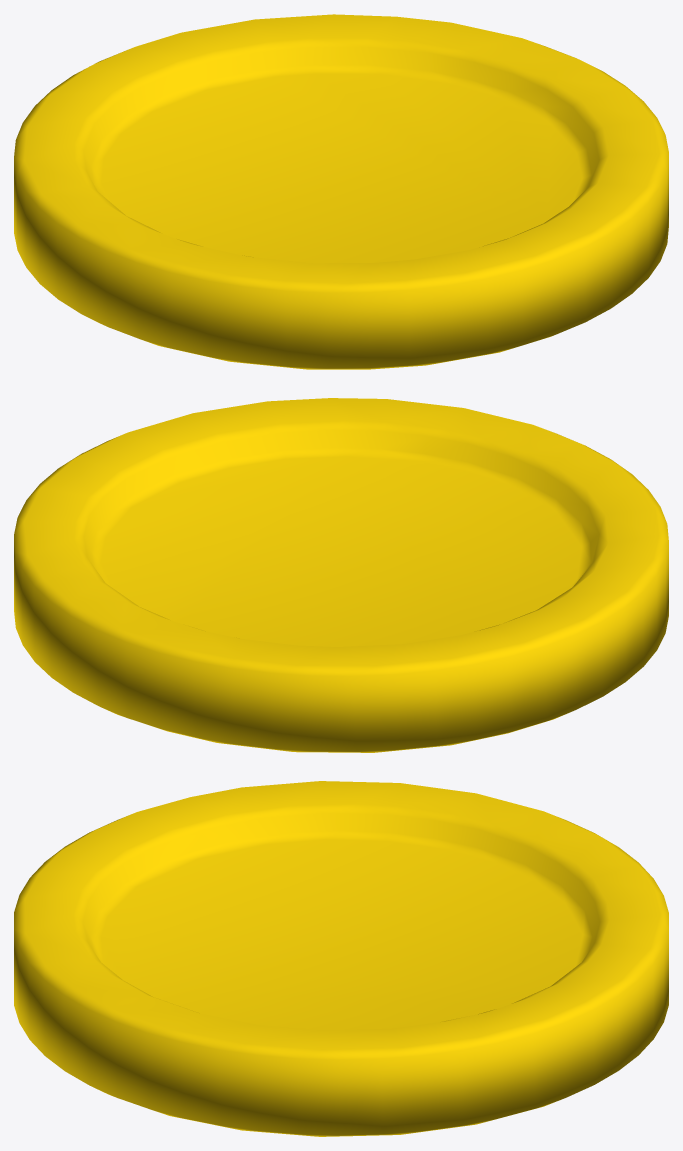
Rendered from coin.glb.
3 renders of one model, top to bottom at view 1: azimuth 30°, elevation 25°; view 2: azimuth 150°, elevation 25°; view 3: azimuth 270°, elevation 25°, orthographic.
Parts seen in each view (by area): view 1: pCylinder7_standardSurface1_0; view 2: pCylinder7_standardSurface1_0; view 3: pCylinder7_standardSurface1_0.
Part boxes in pixels (x1,y1,x2,y2): pCylinder7_standardSurface1_0: (14, 14, 668, 369); pCylinder7_standardSurface1_0: (14, 398, 668, 752); pCylinder7_standardSurface1_0: (14, 781, 668, 1136).
Bounding box in the file's own units: 19.64 × 2.88 × 19.61.
